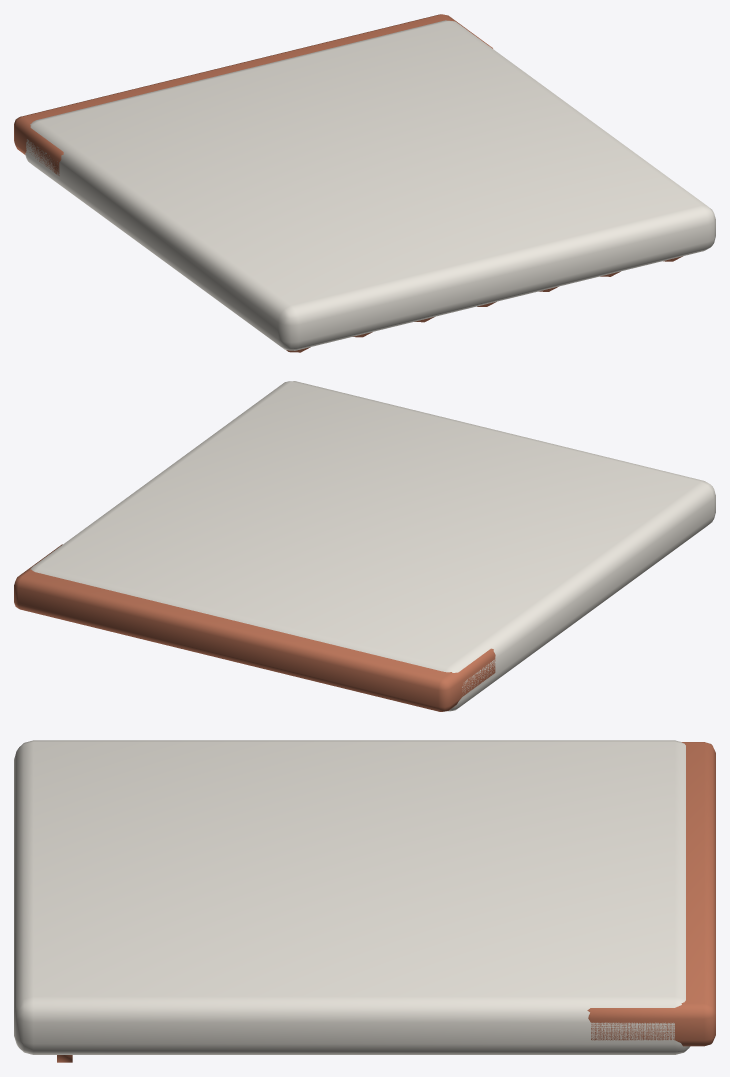
The model's file is vintage_bedspread_02.glb.
3 renders of one model, top to bottom at view 1: azimuth 30°, elevation 25°; view 2: azimuth 150°, elevation 25°; view 3: azimuth 270°, elevation 25°, orthographic. The views are drawn at different scales.
Parts seen in each view (by area): view 1: vintage_bedspread_02; view 2: vintage_bedspread_02; view 3: vintage_bedspread_02.
Boxes of the visible parts, x1=… form: vintage_bedspread_02: x1=14, y1=14, x2=715, y2=352; vintage_bedspread_02: x1=14, y1=381, x2=715, y2=711; vintage_bedspread_02: x1=14, y1=740, x2=715, y2=1062.
Bounding box in the file's own units: 1.64 × 0.21 × 1.8.
